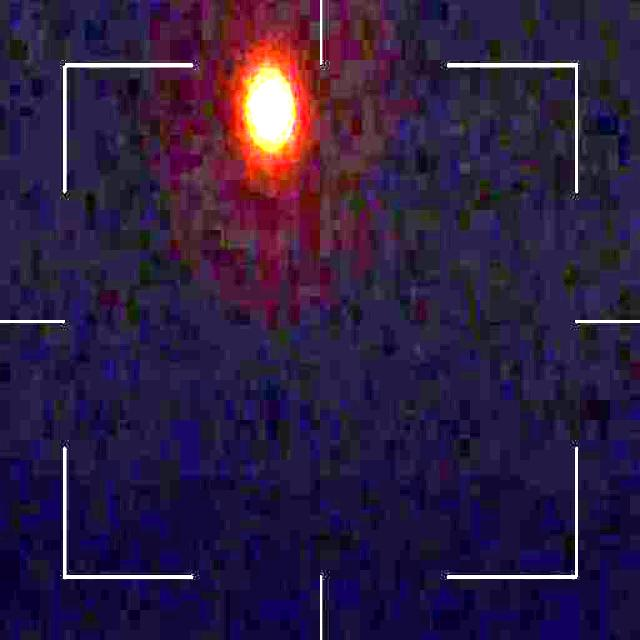bird: (246, 75, 294, 146)
